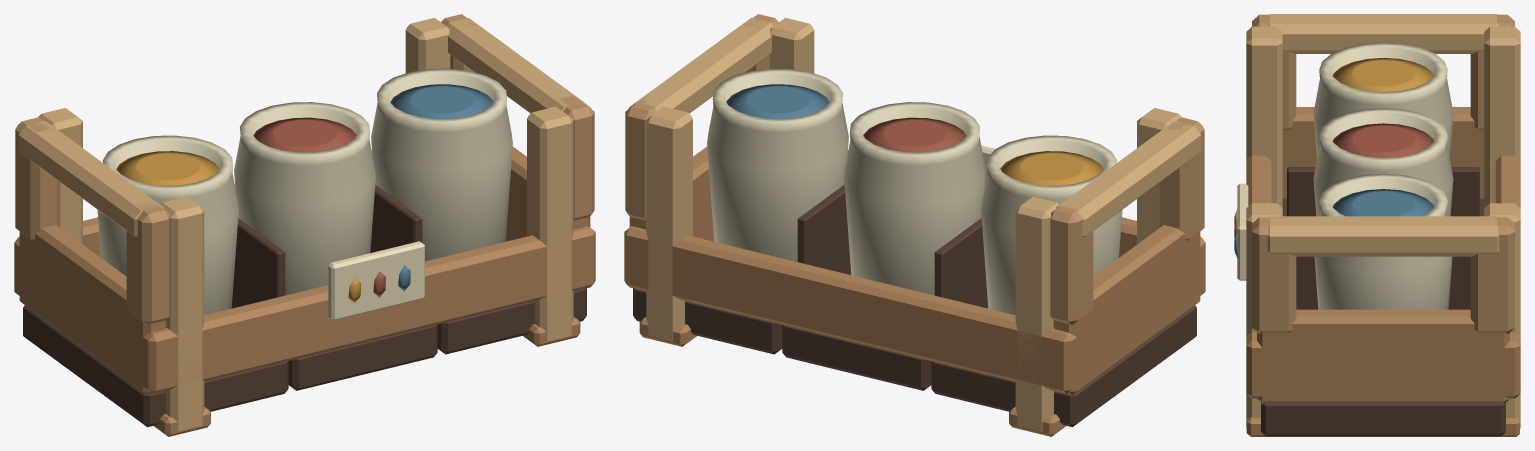
Rendered from goods_pigment_pots.glb.
3 views of the same model, side by side, from view 1: azimuth 30°, elevation 25°; view 2: azimuth 150°, elevation 25°; view 3: azimuth 270°, elevation 25° (orthographic).
Visible parts, largest first — view 1: goods_pigment_pots; view 2: goods_pigment_pots; view 3: goods_pigment_pots.
Boxes of the visible parts, box(x1,y1,x2,y2) form: goods_pigment_pots: box(14, 14, 595, 436); goods_pigment_pots: box(624, 14, 1205, 436); goods_pigment_pots: box(1234, 14, 1520, 436).
Size of the model in its own units: 0.644 by 0.301 by 0.3559.
